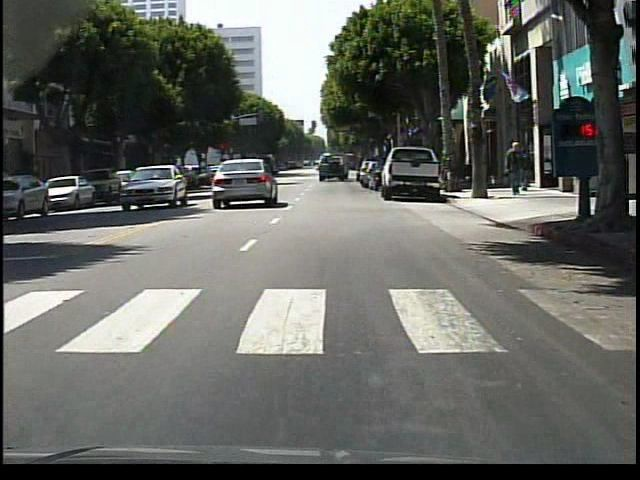person: (506, 141, 527, 199), (518, 148, 535, 193), (224, 158, 237, 202)
